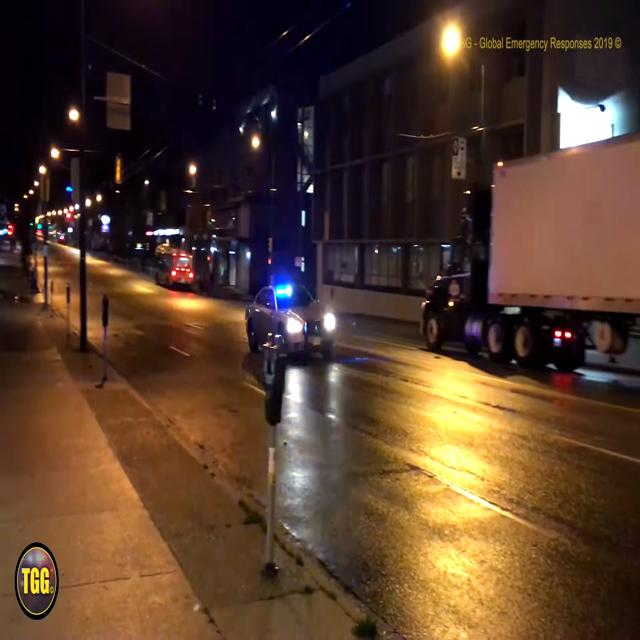emergency-vehicles: (234, 276, 342, 358)
